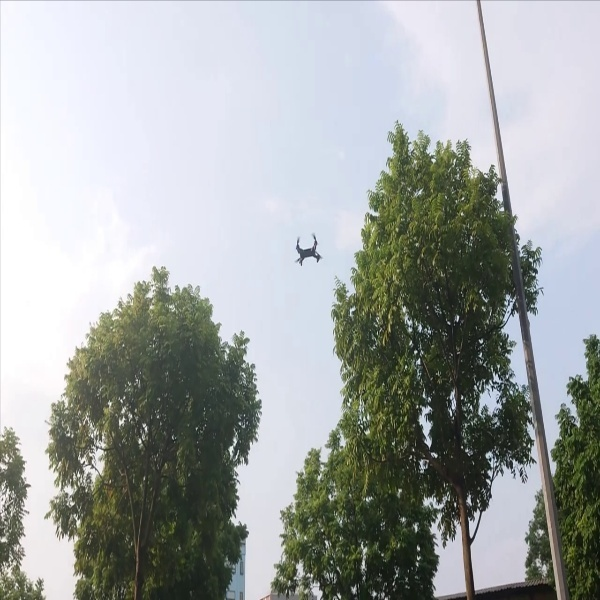drone: (287, 230, 331, 275)
